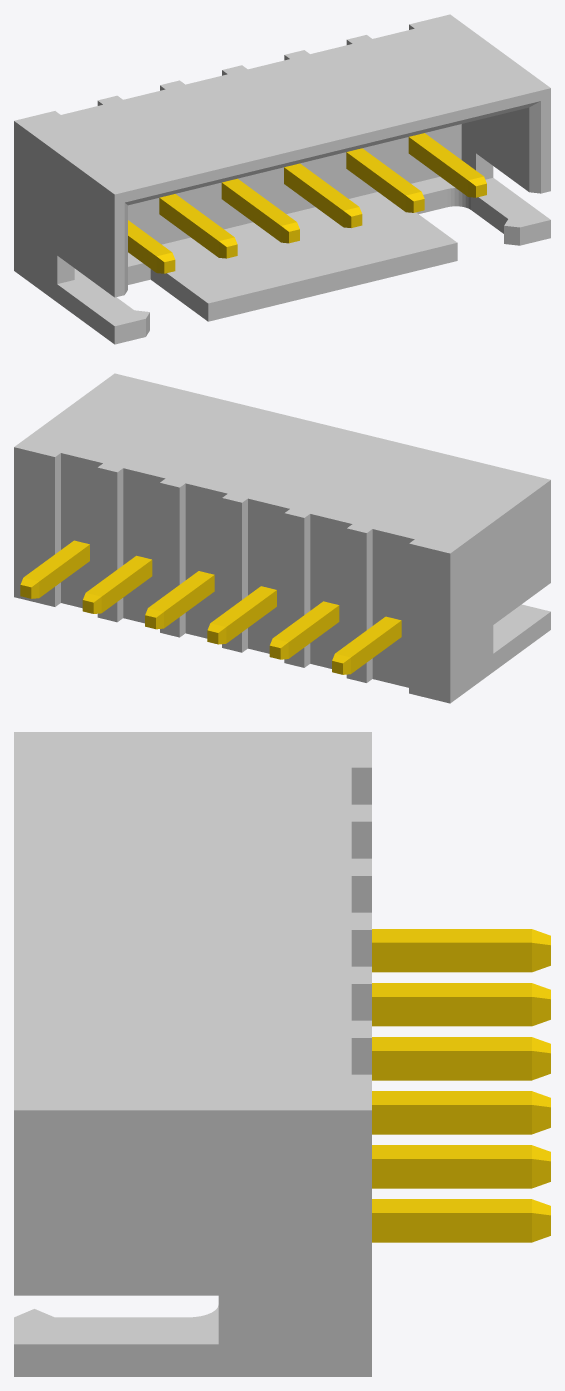
File: DS1069-6 CWF-6.obj
The picture shows the model from 3 angles, top to bottom: view 1: azimuth 30°, elevation 25°; view 2: azimuth 150°, elevation 25°; view 3: azimuth 270°, elevation 25°; orthographic projection. The views are drawn at different scales.
Visible parts, largest first — view 1: DS1069-6_CWF-6; view 2: DS1069-6_CWF-6; view 3: DS1069-6_CWF-6.
Part boxes in pixels (x1=…): DS1069-6_CWF-6: x1=14, y1=14, x2=550, y2=344; DS1069-6_CWF-6: x1=14, y1=373, x2=550, y2=703; DS1069-6_CWF-6: x1=14, y1=732, x2=550, y2=1376.
Bounding box in the file's own units: 0.0284 × 0.00934 × 0.0171.
